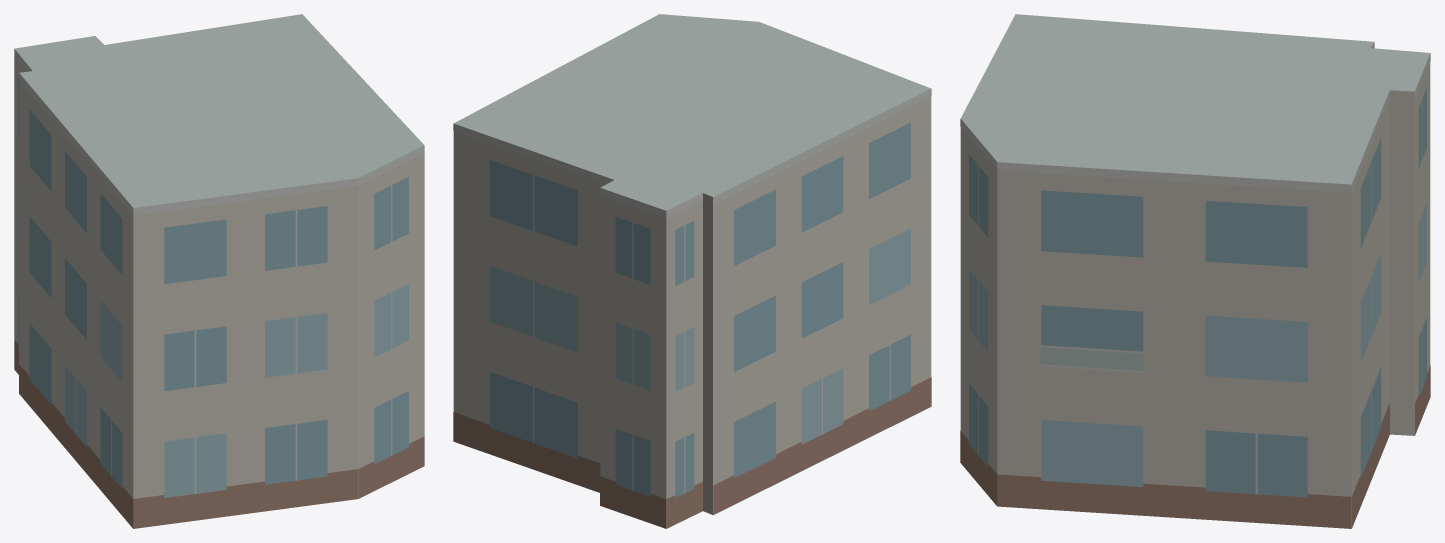
File: survey-upis-32700938.glb
3 renders of one model, left to right at view 1: azimuth 30°, elevation 25°; view 2: azimuth 150°, elevation 25°; view 3: azimuth 270°, elevation 25°, orthographic. The views are drawn at different scales.
Visible parts, largest first — view 1: survey-upis-32700938.tmp; view 2: survey-upis-32700938.tmp; view 3: survey-upis-32700938.tmp.
Part boxes in pixels (left/top/right/bottom): survey-upis-32700938.tmp: left=14, top=14, right=424, bottom=528; survey-upis-32700938.tmp: left=453, top=14, right=931, bottom=528; survey-upis-32700938.tmp: left=960, top=14, right=1430, bottom=528.
Bounding box in the file's own units: 10.84 × 10.2 × 12.62.
